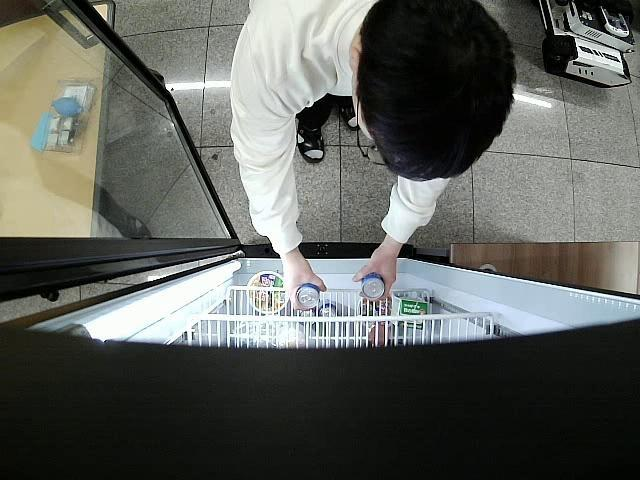15_letsbe: (294, 282, 321, 310), (360, 272, 385, 300)
